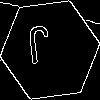J: (25, 25, 54, 74)
